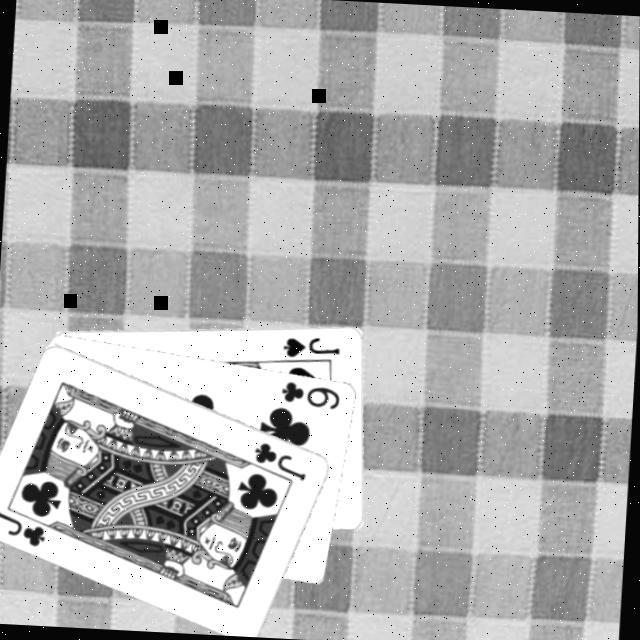6C: (280, 380, 346, 414)
JC: (254, 440, 314, 486), (0, 507, 52, 552)
JS: (282, 334, 346, 364)
